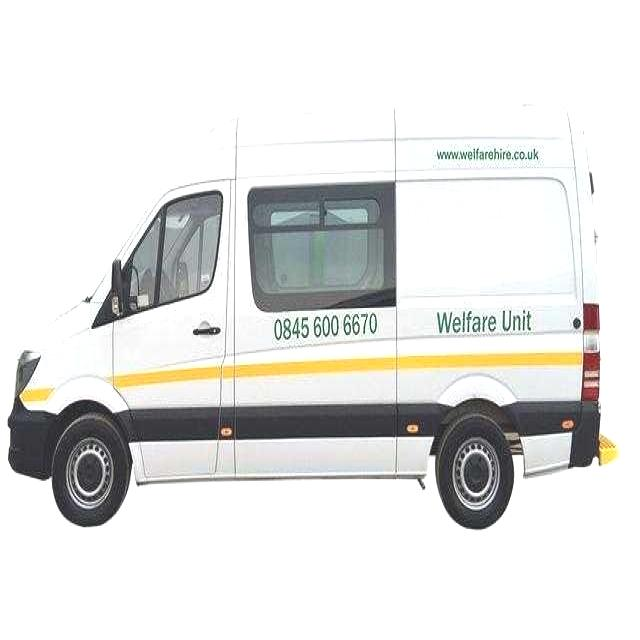Van: (6, 4, 618, 592)
